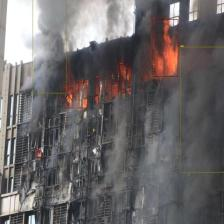fire: (153, 19, 178, 77), (120, 64, 130, 92), (78, 82, 88, 108), (65, 88, 73, 108), (96, 78, 98, 106), (36, 151, 41, 158)
smoke: (180, 46, 224, 172), (33, 0, 66, 93)
